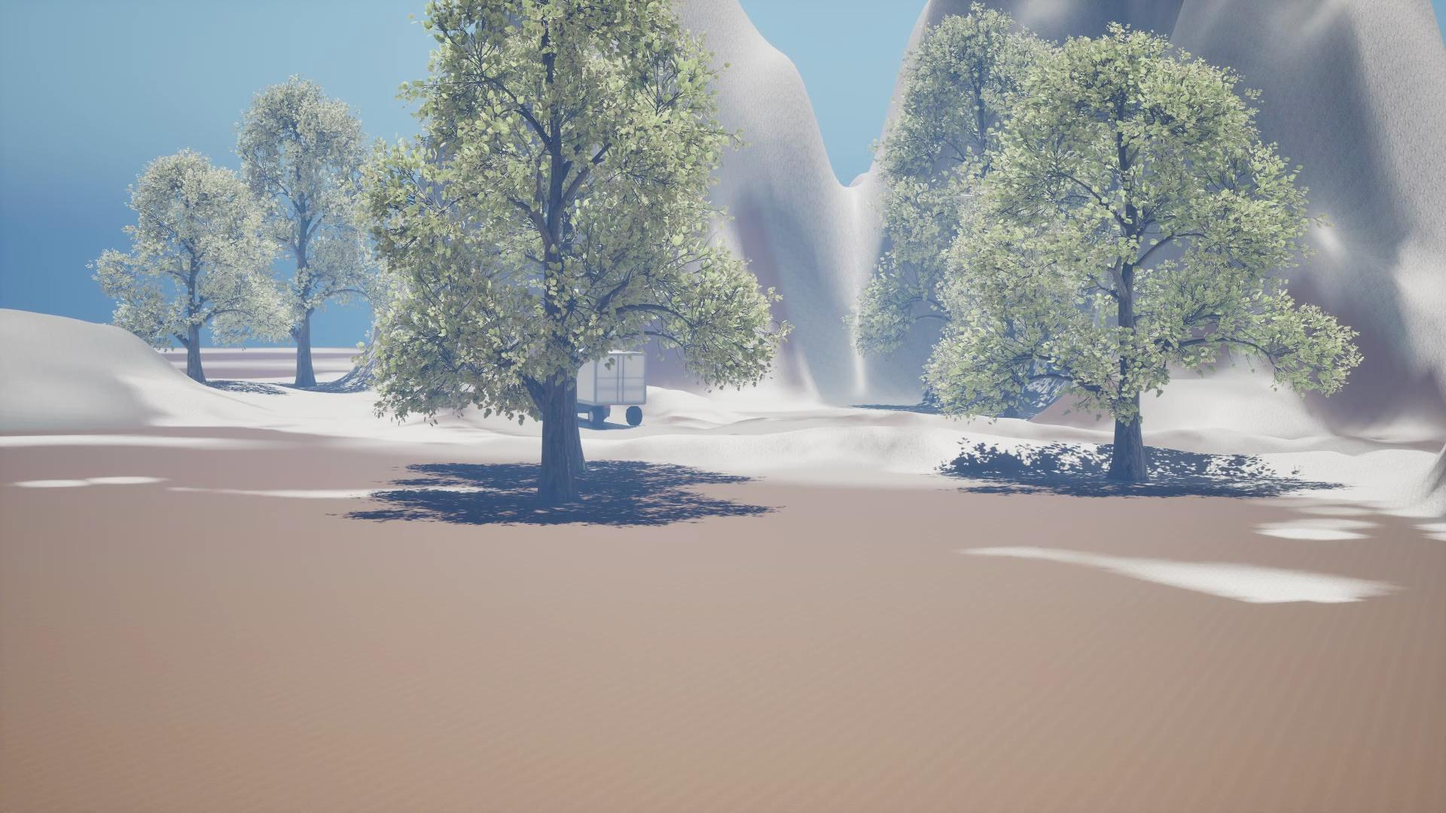truck: (584, 348, 649, 428)
